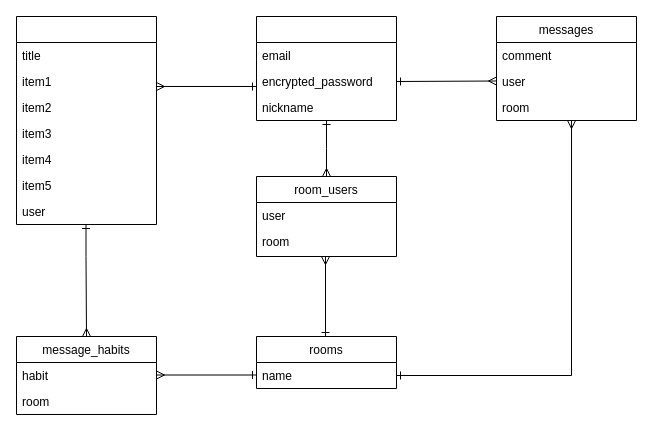
This 653x431 diagram has some shape labels left out. Here are the shapes that lost their labels. From the top down, the box of each, then its label:
(256, 16, 396, 120): users
(16, 16, 156, 224): habits
